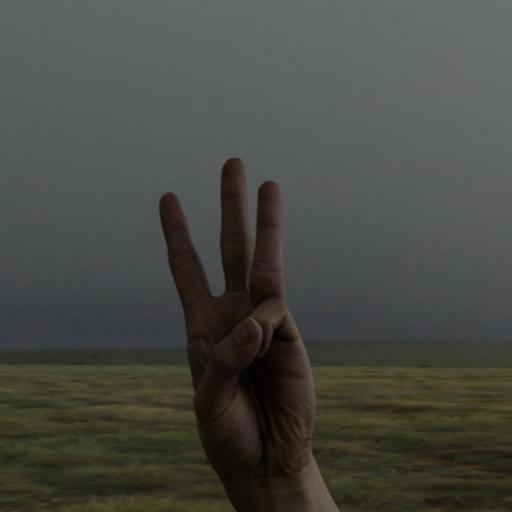W: (156, 153, 317, 476)
